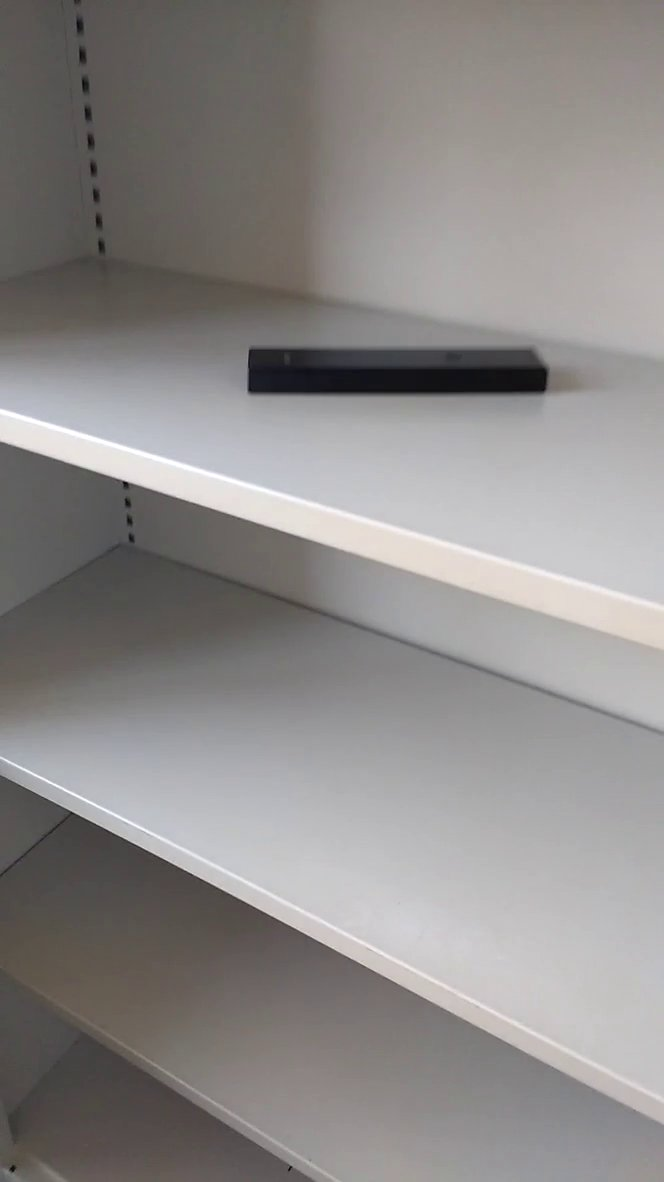remote: (237, 325, 555, 428)
